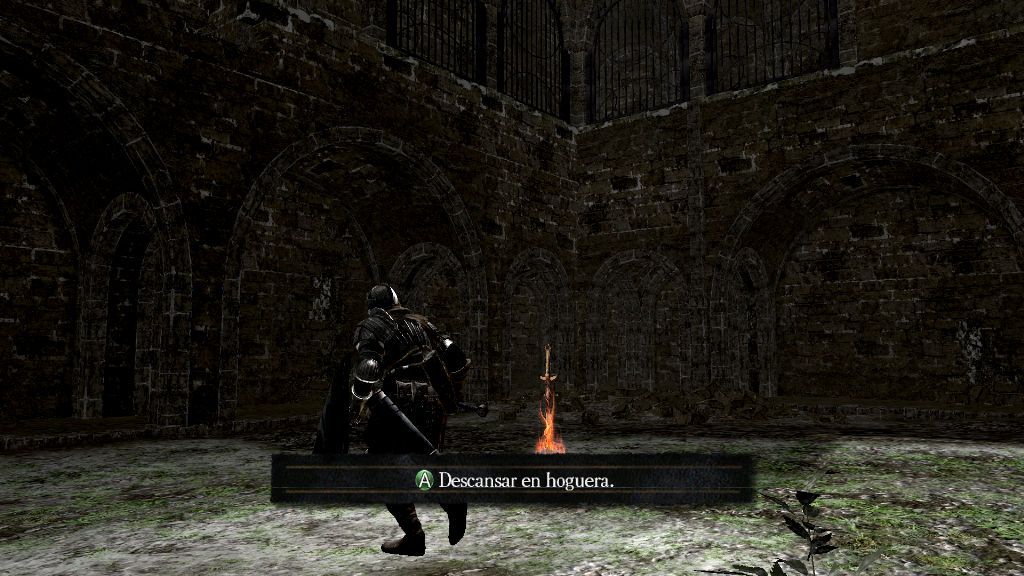bonfire: (527, 343, 571, 454)
dialogBox: (272, 456, 753, 503)
player: (311, 279, 470, 560)
